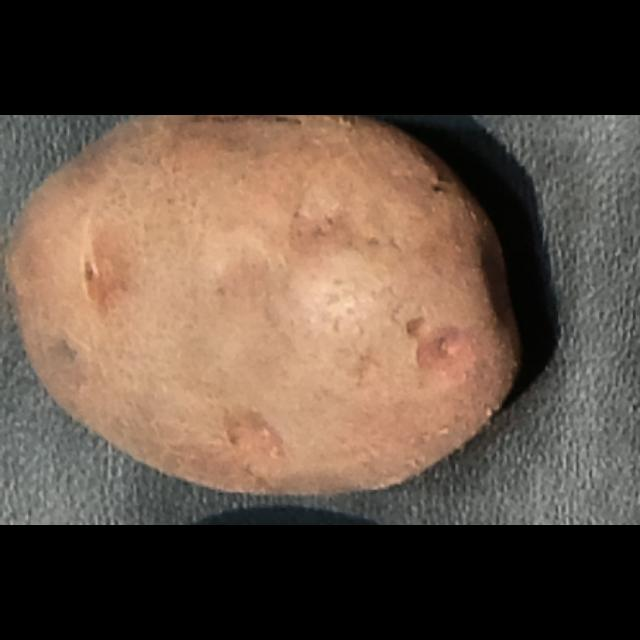Diseased-fungal potato: (1, 116, 532, 504)
